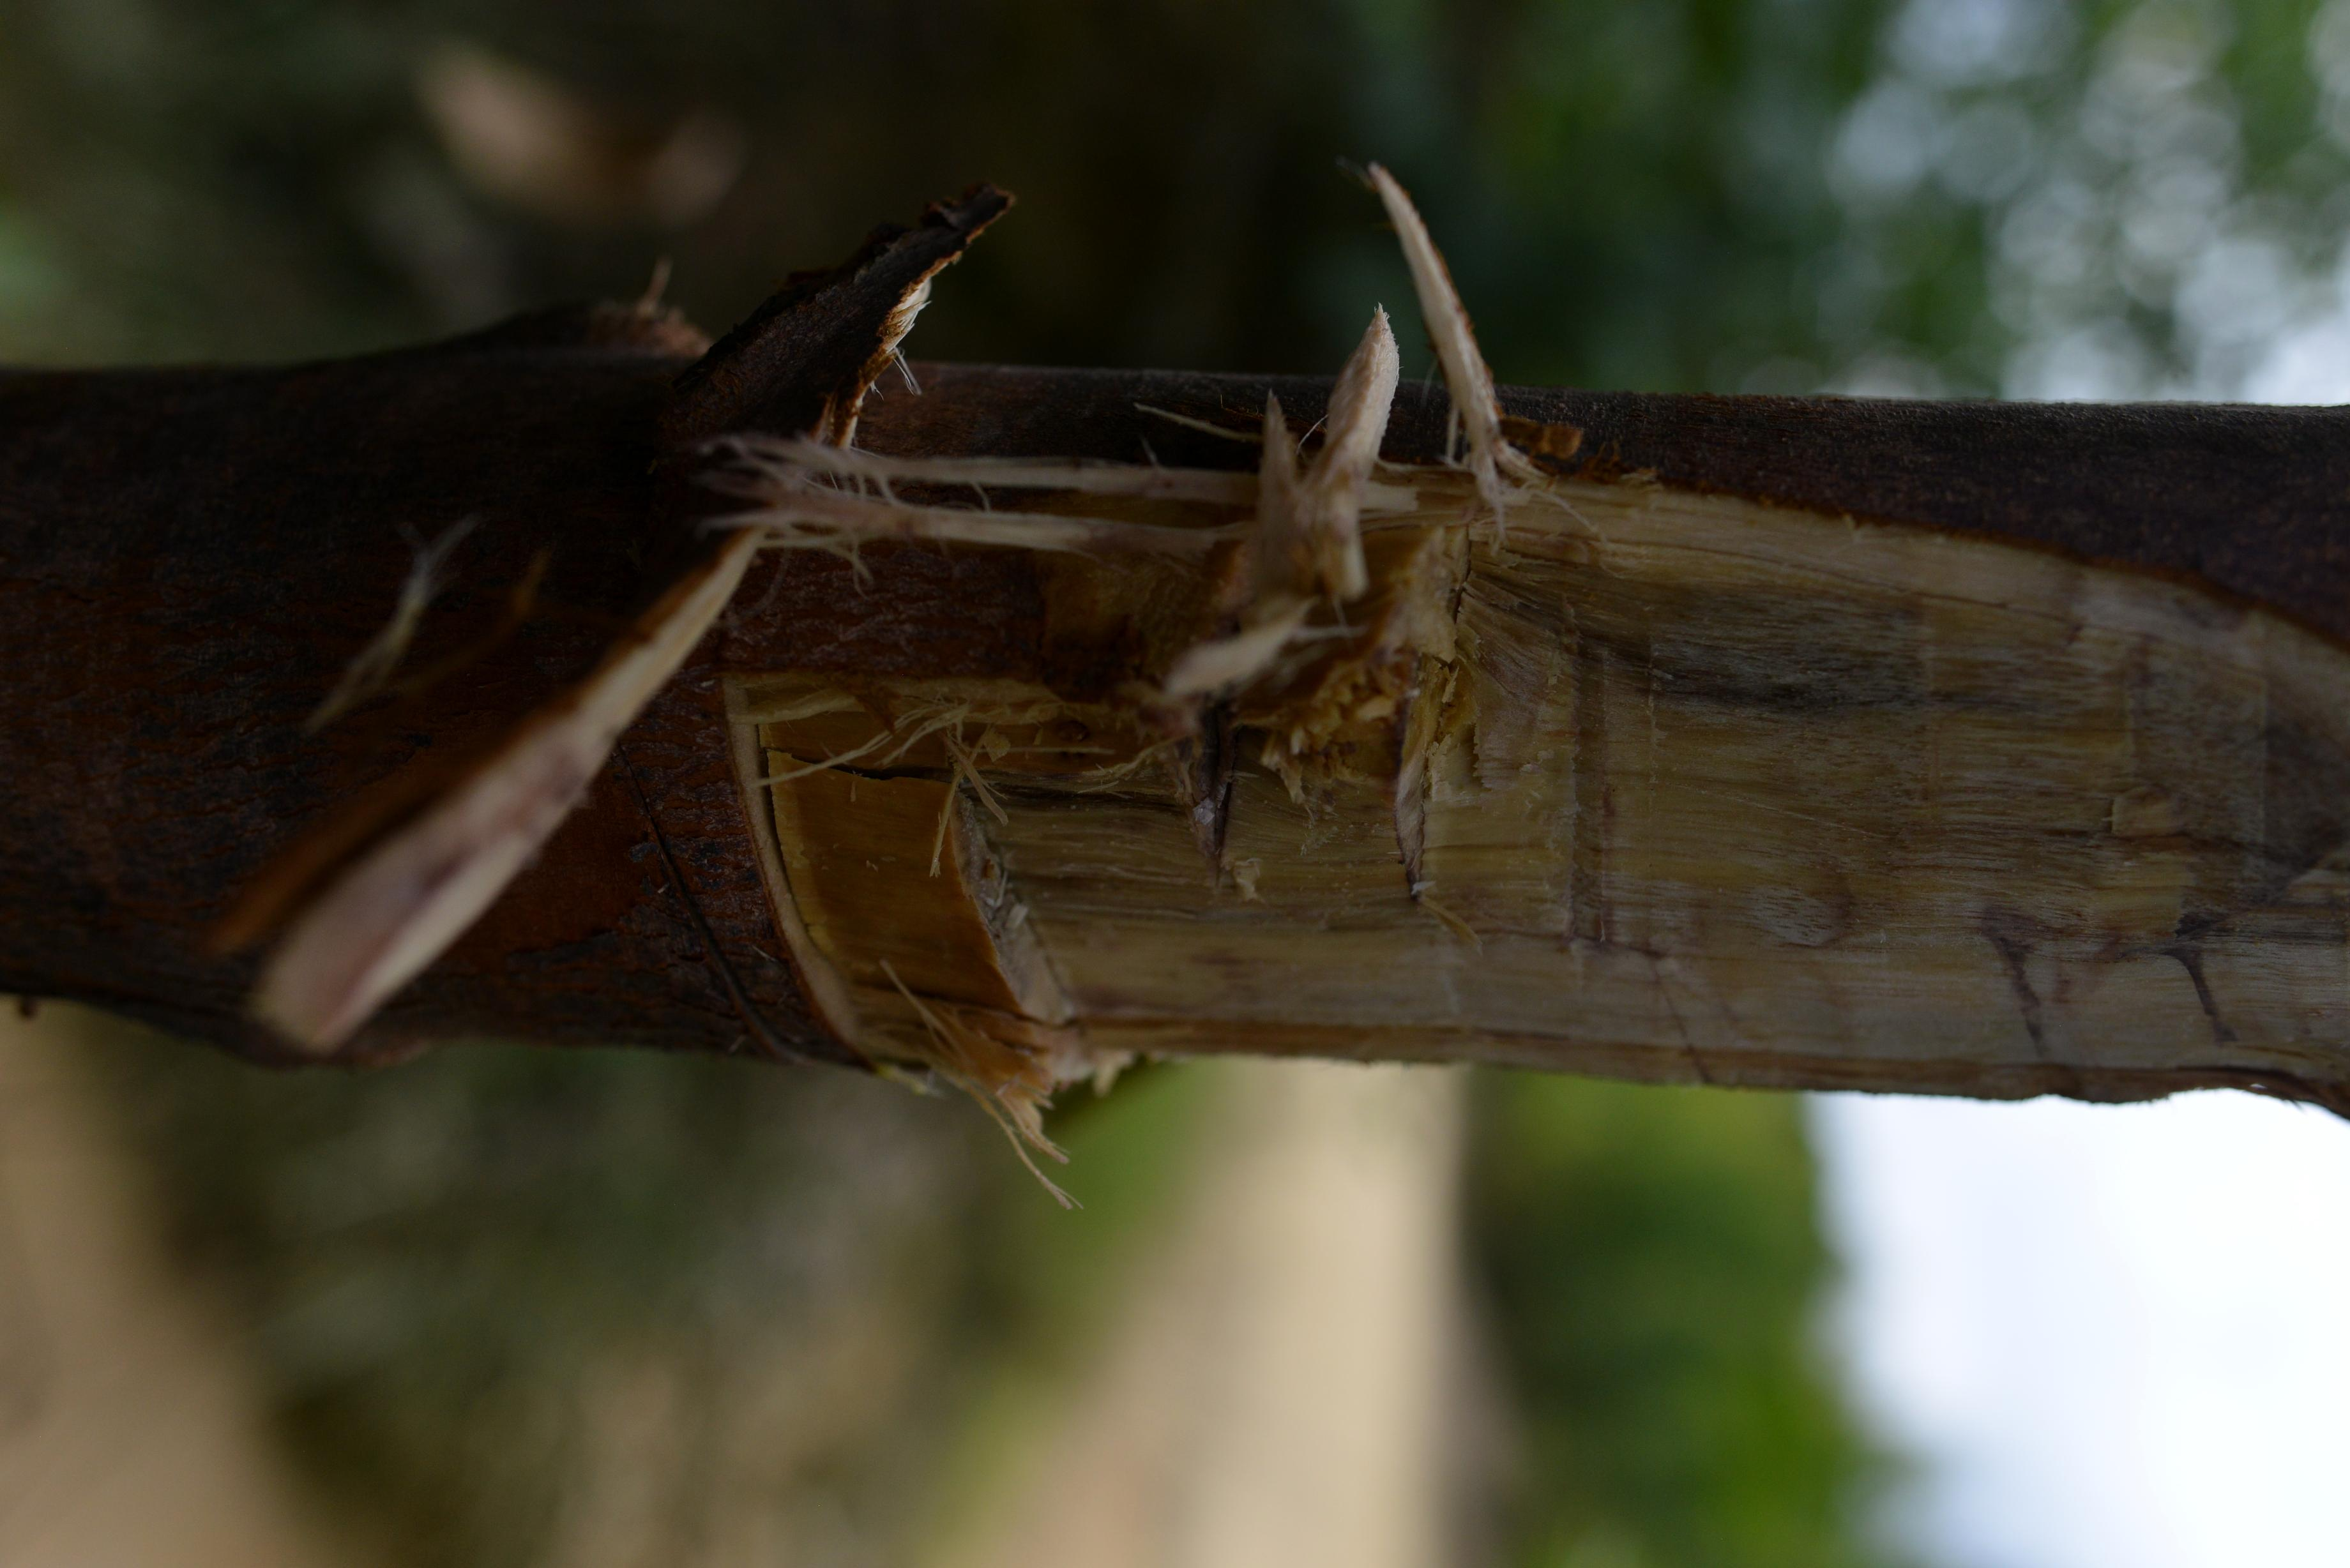Ralstonia: (773, 432, 2350, 1034)
